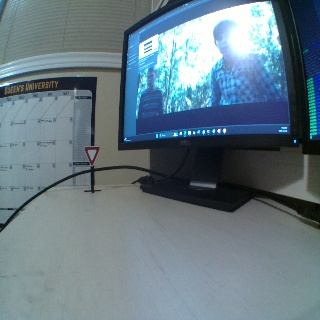sign_yield: (84, 146, 101, 163)
